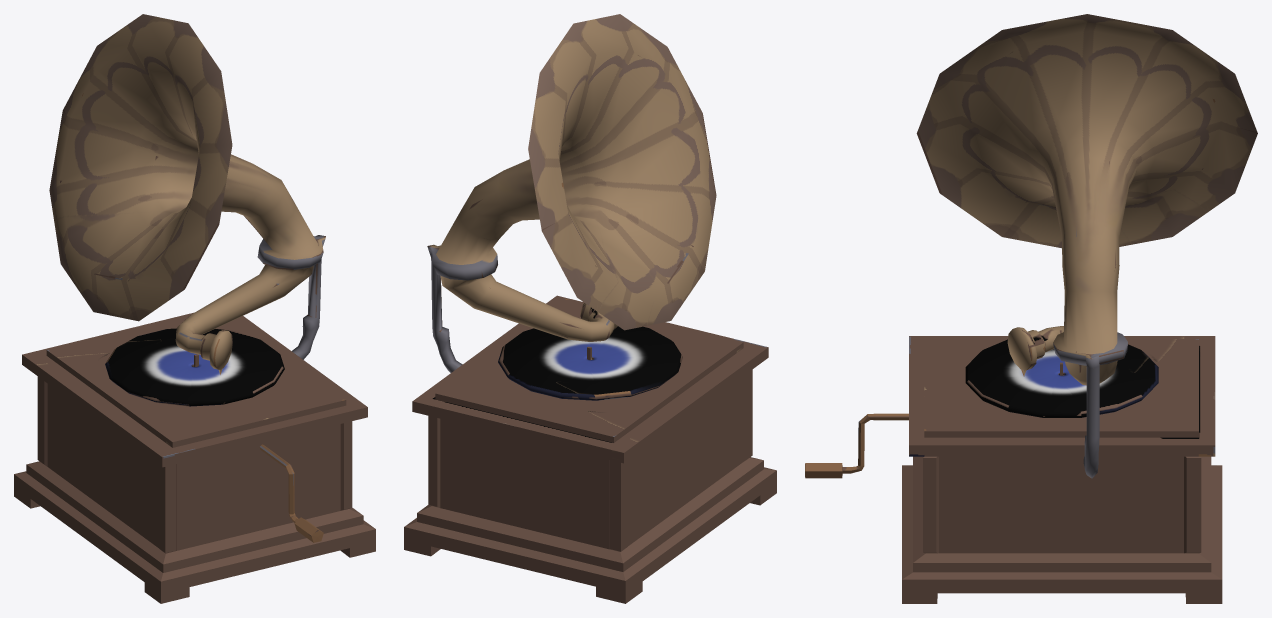
Rendered from Gramophone 1.fbx.
3 views of the same model, side by side, from view 1: azimuth 30°, elevation 25°; view 2: azimuth 150°, elevation 25°; view 3: azimuth 270°, elevation 25° (orthographic). The views are drawn at different scales.
Visible parts, largest first — view 1: Cylinder.001; view 2: Cylinder.001; view 3: Cylinder.001.
Part boxes in pixels (left/top/right/bottom): Cylinder.001: left=14, top=14, right=375, bottom=603; Cylinder.001: left=404, top=14, right=776, bottom=603; Cylinder.001: left=805, top=14, right=1257, bottom=603.
Bounding box in the file's own units: 166 × 309 × 237.
1 material, 1 textured.
